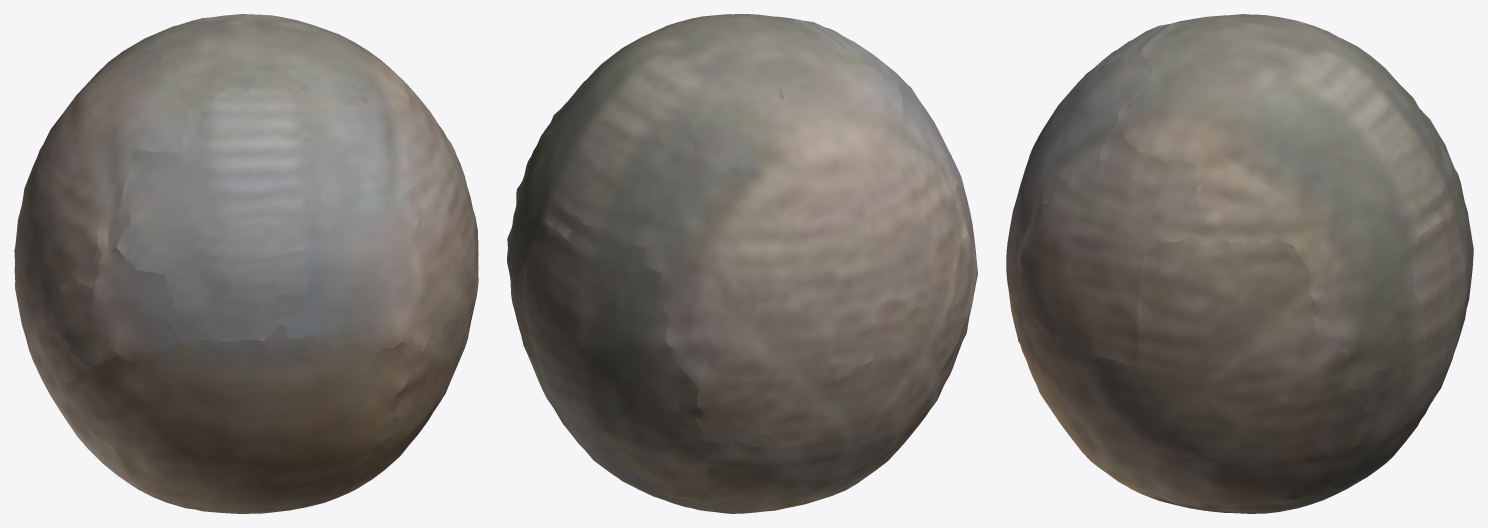
3 views of the same model, side by side, from view 1: azimuth 30°, elevation 25°; view 2: azimuth 150°, elevation 25°; view 3: azimuth 270°, elevation 25° (orthographic).
Visible parts, largest first — view 1: world; view 2: world; view 3: world.
Part boxes in pixels (bbox=[...]): world: bbox=[14, 14, 478, 513]; world: bbox=[507, 14, 977, 513]; world: bbox=[1006, 14, 1473, 513].
Size of the model in its own units: 0.3434 by 0.3593 by 0.3439.
1 material, 1 textured.
